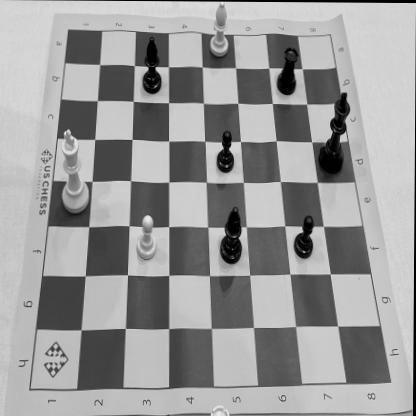black-bishop: (216, 201, 248, 267), (140, 34, 167, 100)
black-king: (316, 85, 352, 180)
black-pawn: (290, 210, 316, 263), (213, 126, 240, 176)
black-rook: (274, 42, 302, 96)
white-bishop: (209, 2, 236, 61)
white-king: (58, 118, 96, 220)
white-pawn: (135, 209, 163, 262)
